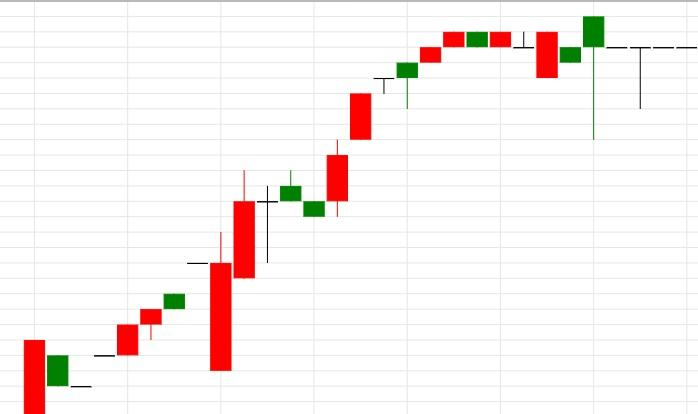hanging_man_fall: (536, 15, 605, 139)
